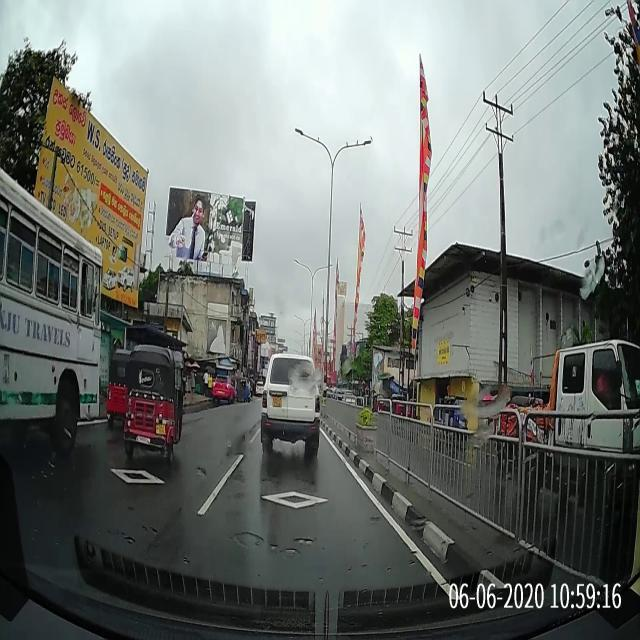diamond: (208, 483, 392, 517)
